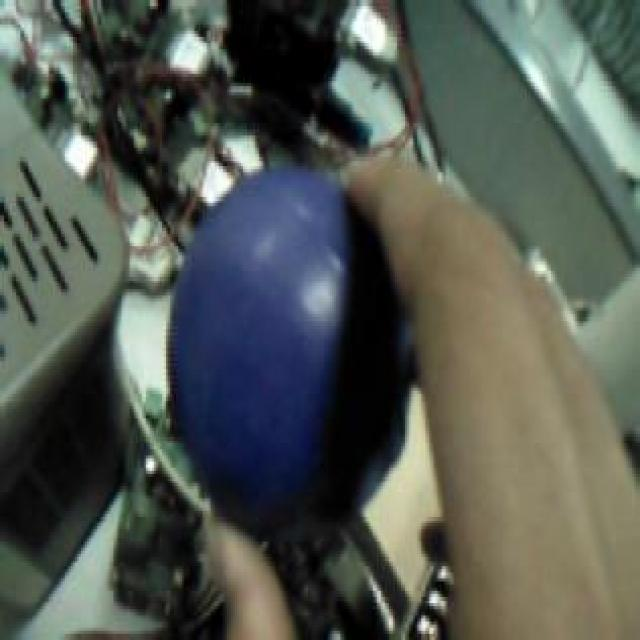BallPurple: (166, 166, 405, 544)
